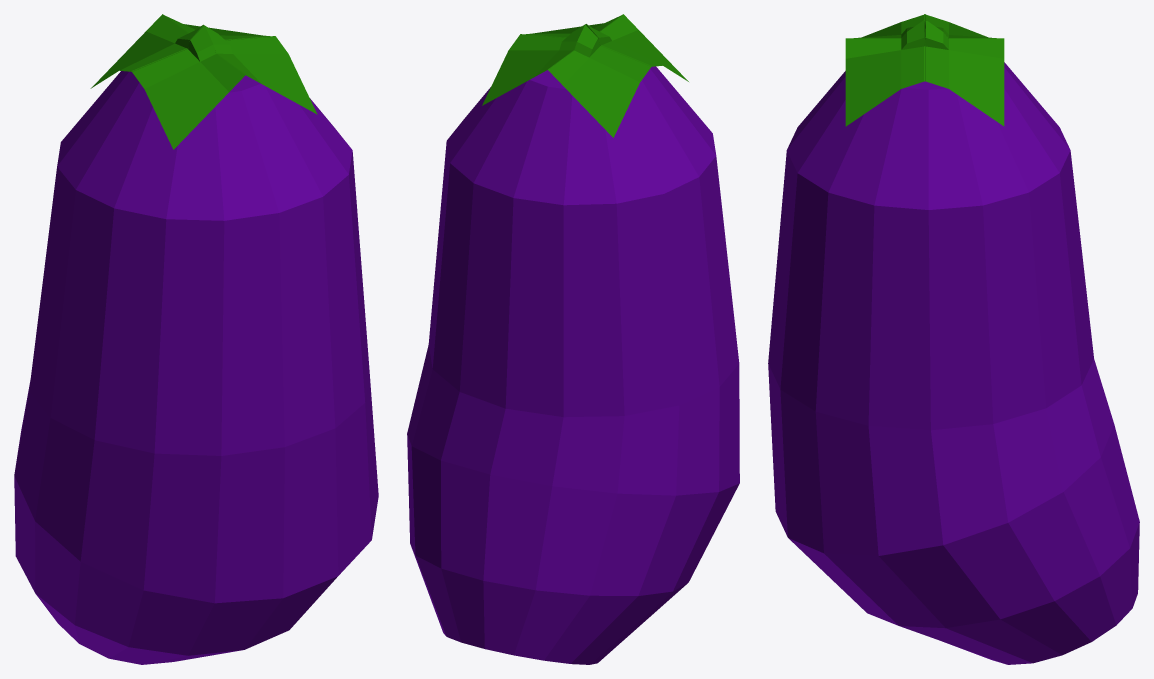
File: nasu.fbx
3 views of the same model, side by side, from view 1: azimuth 30°, elevation 25°; view 2: azimuth 150°, elevation 25°; view 3: azimuth 270°, elevation 25° (orthographic). The views are drawn at different scales.
Parts seen in each view (by area): view 1: Cube, Plane; view 2: Cube, Plane; view 3: Cube, Plane.
Boxes of the visible parts, bbox=[...] form: Cube: bbox=[14, 71, 378, 664]; Plane: bbox=[90, 14, 317, 149]; Cube: bbox=[407, 66, 739, 664]; Plane: bbox=[482, 14, 688, 137]; Cube: bbox=[768, 62, 1139, 664]; Plane: bbox=[845, 14, 1004, 126].
Bounding box in the file's own units: 200 × 393 × 211.
